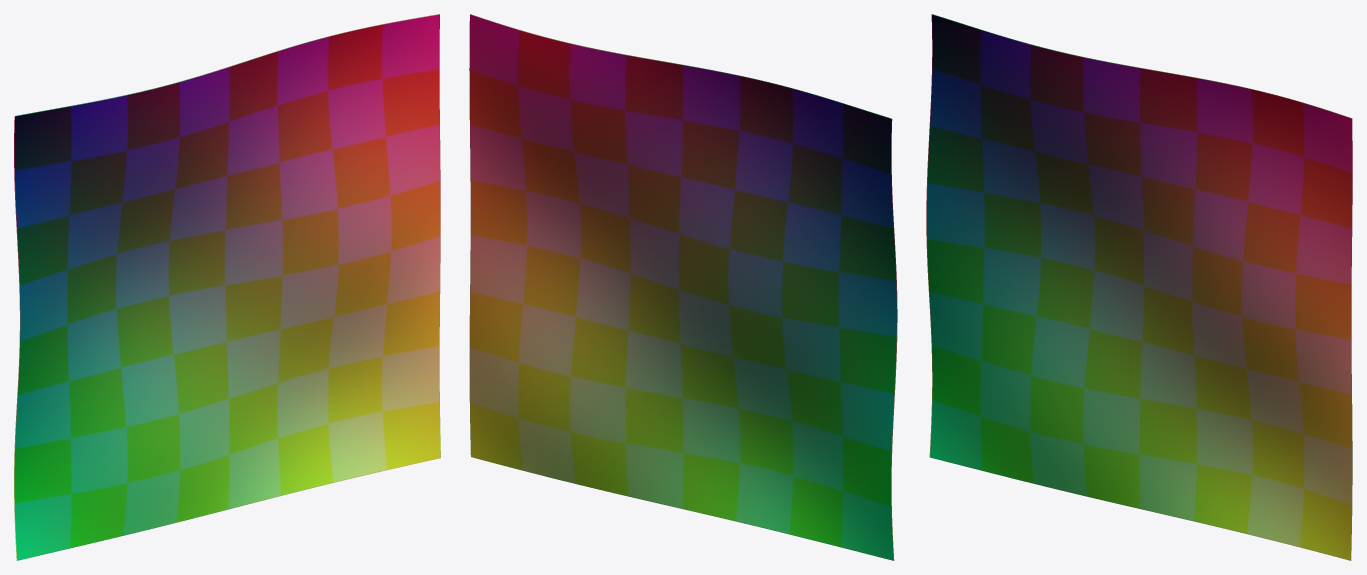
File: Tile_+018_+003.obj
3 renders of one model, left to right at view 1: azimuth 30°, elevation 25°; view 2: azimuth 150°, elevation 25°; view 3: azimuth 330°, elevation 25°, orthographic.
Size of the model in its own units: 100 by 100 by 5.2.
